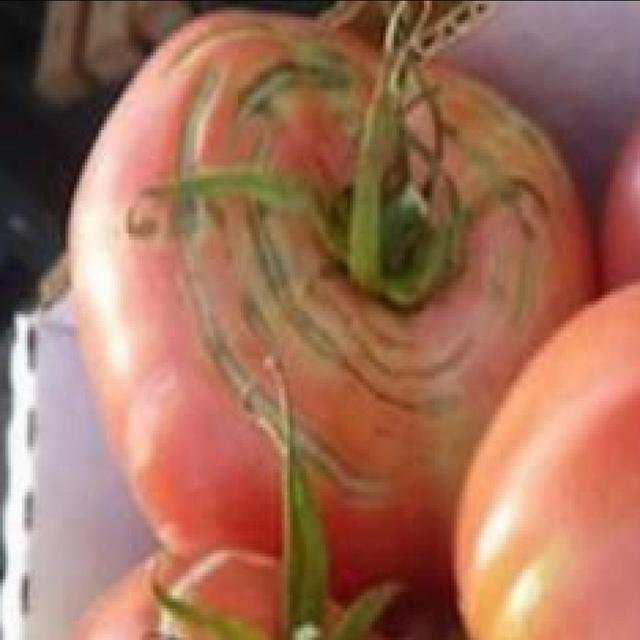Cracking Fruit: (136, 42, 300, 325)
